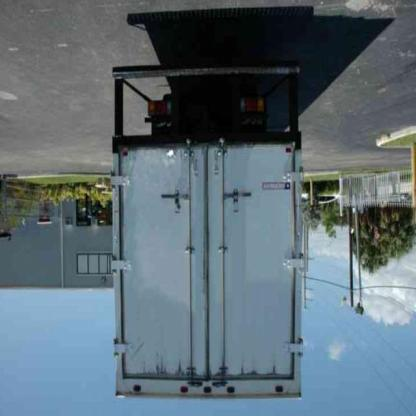truck: (113, 61, 305, 401)
